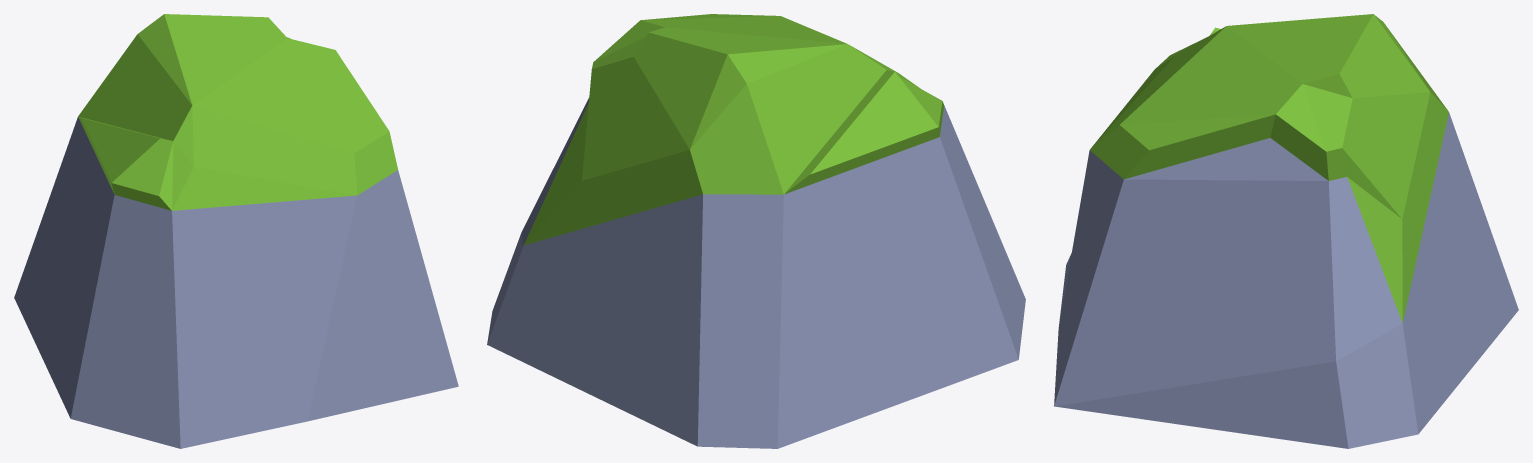
Rendered from Rock_42_1.fbx.
3 renders of one model, left to right at view 1: azimuth 30°, elevation 25°; view 2: azimuth 150°, elevation 25°; view 3: azimuth 270°, elevation 25°, orthographic. The views are drawn at different scales.
Parts seen in each view (by area): view 1: Rock_42_1; view 2: Rock_42_1; view 3: Rock_42_1.
Boxes of the visible parts, x1,y1,x2,y2 form: Rock_42_1: [14, 14, 458, 448]; Rock_42_1: [487, 14, 1025, 448]; Rock_42_1: [1054, 14, 1518, 448].
Size of the model in its own units: 1.65 by 1.16 by 1.54.
